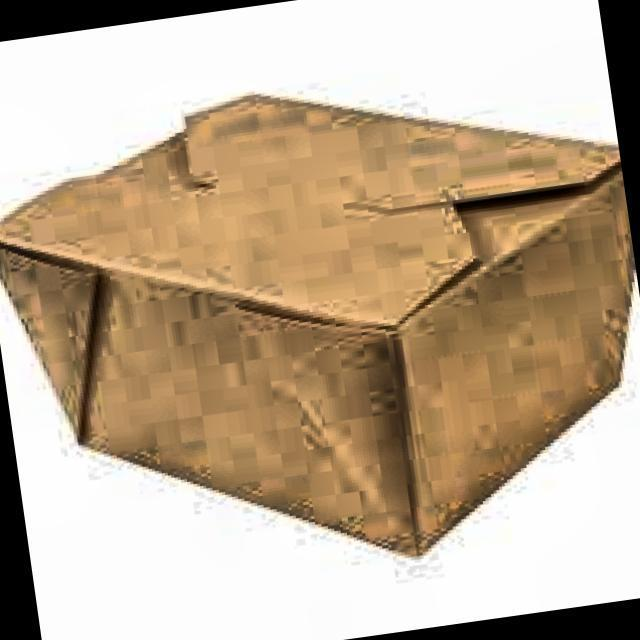cardboard: (0, 39, 640, 609)
